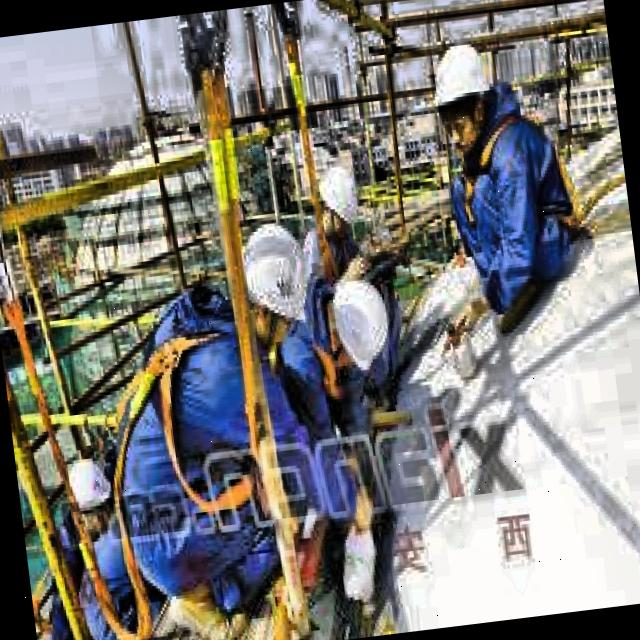helmet: (232, 210, 310, 354), (424, 38, 499, 160), (316, 276, 399, 377), (66, 446, 118, 534), (318, 161, 364, 245)
